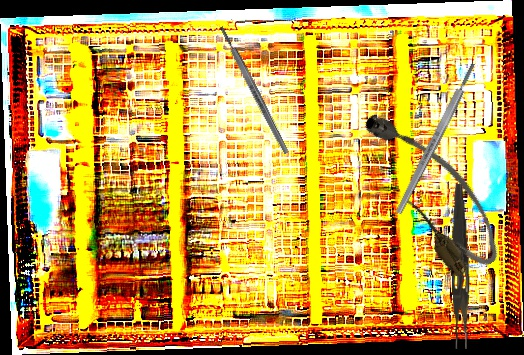Cannula: (351, 91, 513, 286)
Dressing Forceps: (446, 183, 474, 350)
Scalpel Handle: (393, 61, 479, 216), (218, 24, 290, 156)
